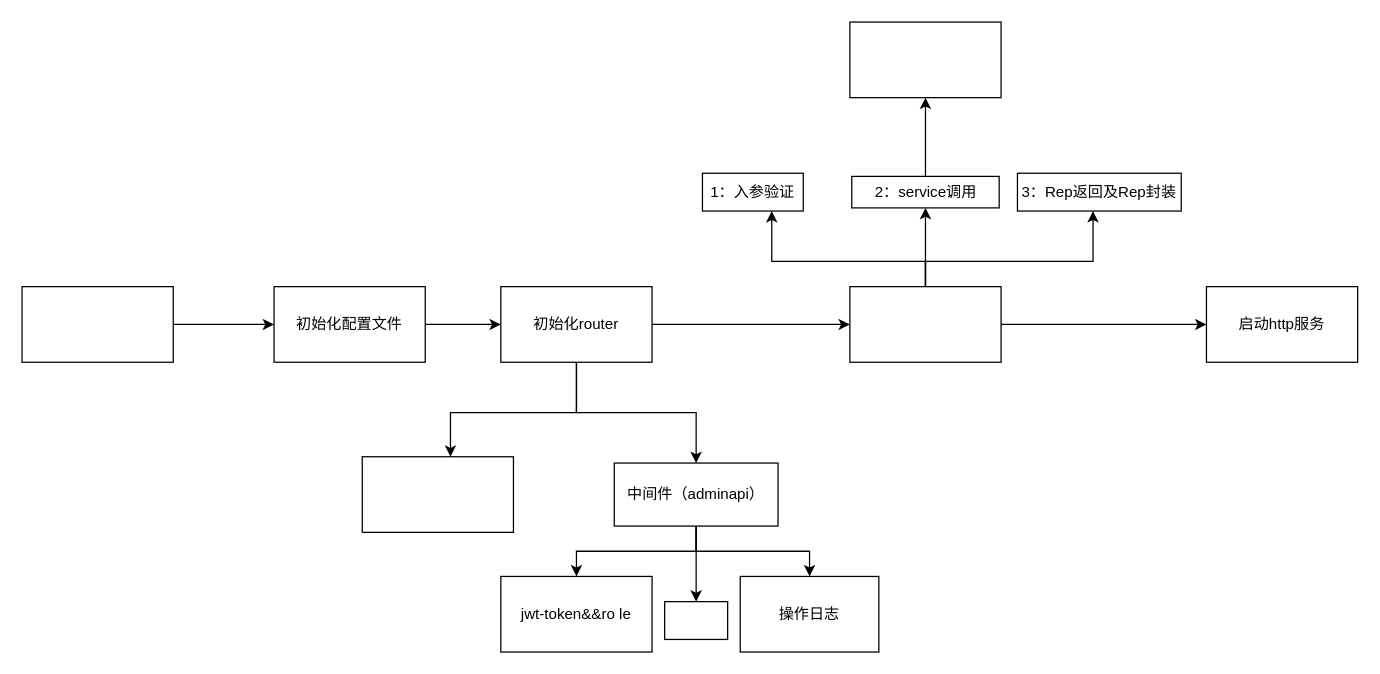
This 1380x674 diagram has some shape labels left out. Each missing label, with the centre of its shape:
全局中间件 （日志，恢复，xes日志，压测标示头）: point (437, 493)
具体路由处理逻辑: point (925, 323)
压测: point (695, 619)
获取命令行参数: point (97, 323)
调用provider，ods（comm,mysql,redis）: point (925, 59)
